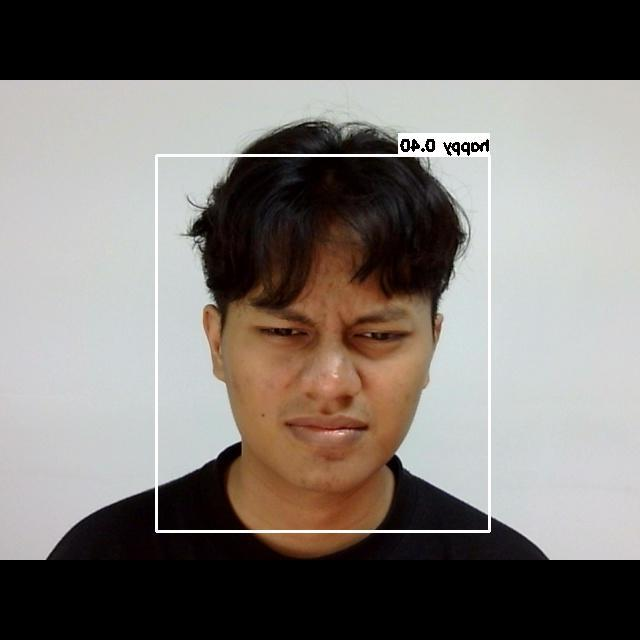Angry: (218, 274, 429, 461)
